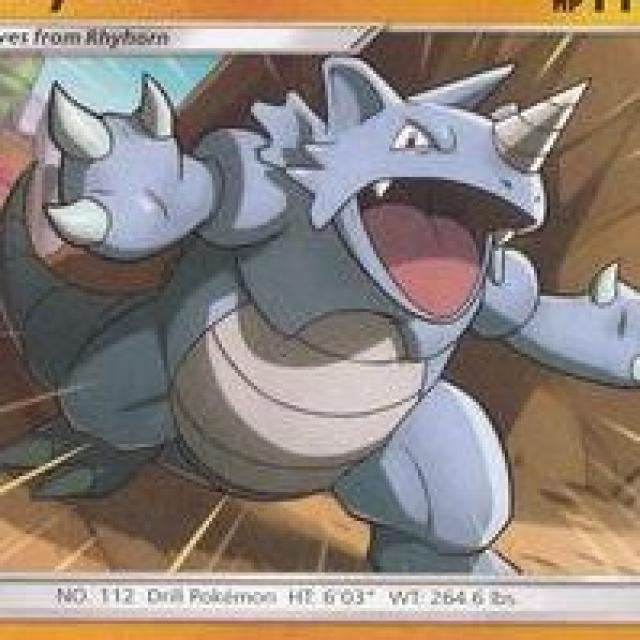Rhydon: (7, 66, 640, 569)
